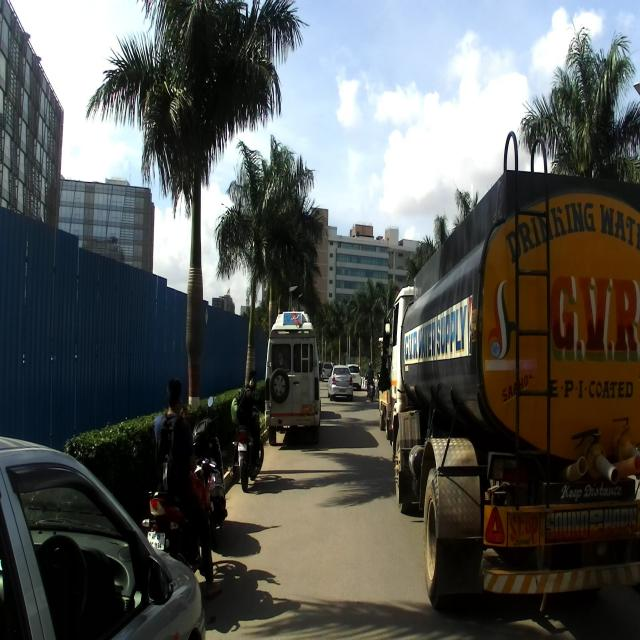mini-bus: (264, 309, 322, 445)
motorcycle_Honda: (231, 406, 265, 492)
motorcycle_TVS: (139, 454, 215, 579)
truck: (378, 129, 638, 618)
